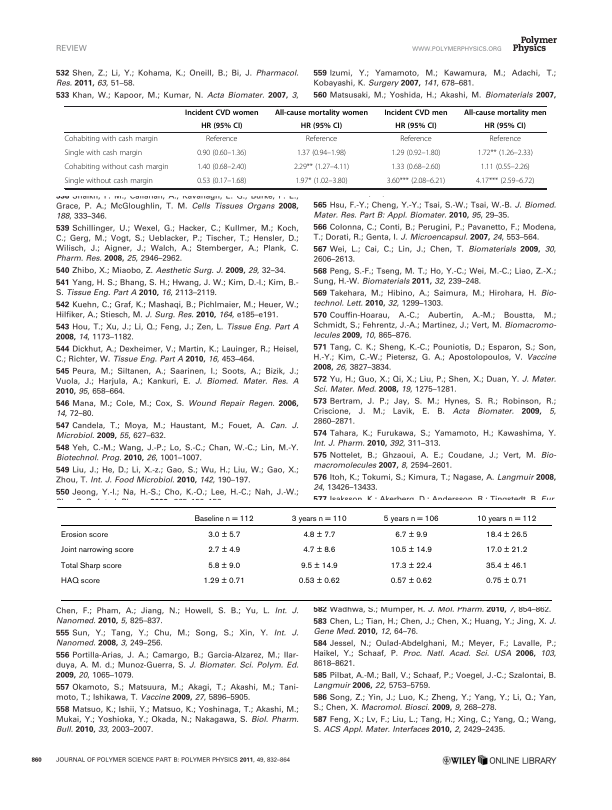borderless: (56, 505, 552, 600), (63, 104, 546, 188)
cell: (63, 162, 169, 172), (63, 134, 159, 144), (64, 176, 154, 186), (274, 108, 369, 117), (63, 148, 143, 158), (463, 108, 547, 117), (59, 546, 134, 556), (184, 108, 259, 117), (59, 561, 122, 571), (475, 514, 537, 524), (193, 514, 254, 524), (386, 176, 446, 186), (475, 176, 535, 186), (383, 108, 448, 117), (290, 514, 347, 524), (382, 514, 439, 524), (477, 148, 534, 158), (293, 162, 350, 172), (294, 176, 348, 186), (196, 148, 247, 158), (296, 148, 347, 158), (390, 148, 441, 158), (196, 162, 247, 172), (390, 162, 441, 172), (480, 162, 531, 172), (196, 176, 247, 186), (59, 530, 108, 540), (484, 530, 528, 540), (484, 546, 528, 556), (484, 561, 528, 571), (484, 577, 528, 587), (389, 546, 432, 556), (389, 561, 432, 571), (202, 577, 245, 587), (297, 577, 340, 587), (389, 577, 432, 587), (200, 121, 243, 131), (300, 121, 343, 131), (394, 121, 437, 131), (484, 121, 527, 131), (59, 577, 100, 587), (299, 561, 338, 571), (207, 530, 241, 540), (302, 530, 336, 540), (394, 530, 428, 540), (207, 546, 241, 556), (302, 546, 336, 556), (207, 561, 241, 571), (399, 134, 433, 144), (488, 134, 522, 144), (205, 134, 238, 144), (305, 134, 338, 144)
